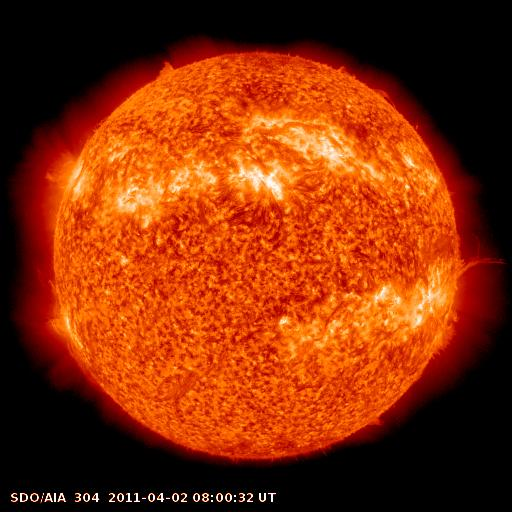prominence: (330, 55, 400, 111), (447, 231, 512, 291), (424, 306, 465, 368), (143, 48, 190, 93)
